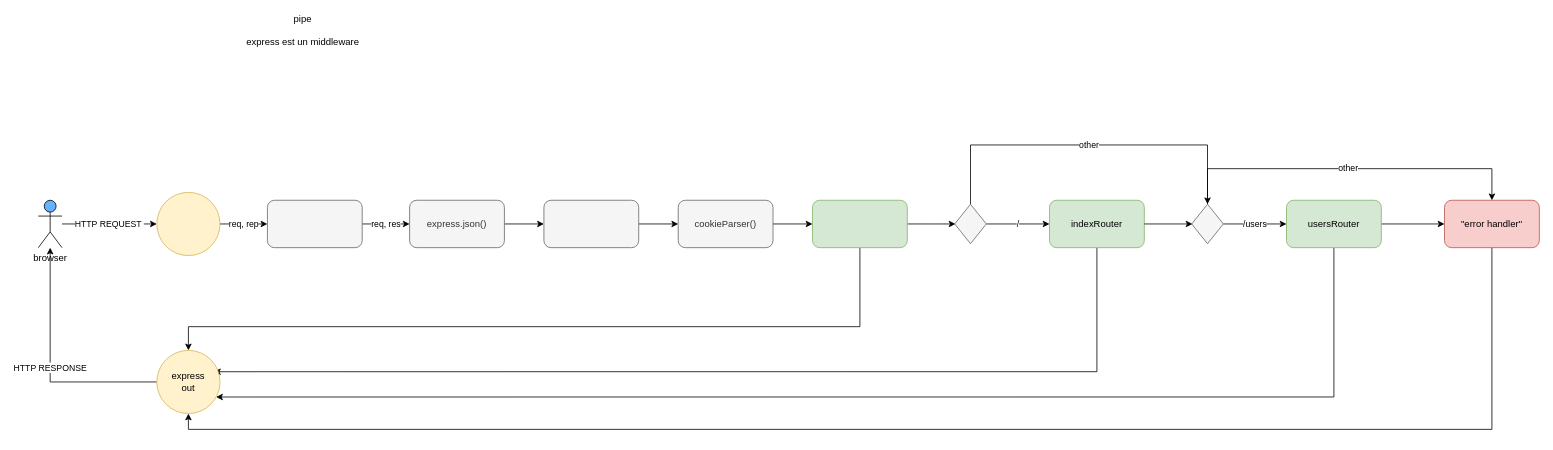
This 1553x450 diagram has some shape labels left out. The shapes that lost their labels are listed below. From the top down, each one's centre as x and y in pixels, then its label:
pixel 188 224: express in
pixel 314 223: morgan (logger)
pixel 591 223: express.urlencoded()
pixel 859 223: express.static()
